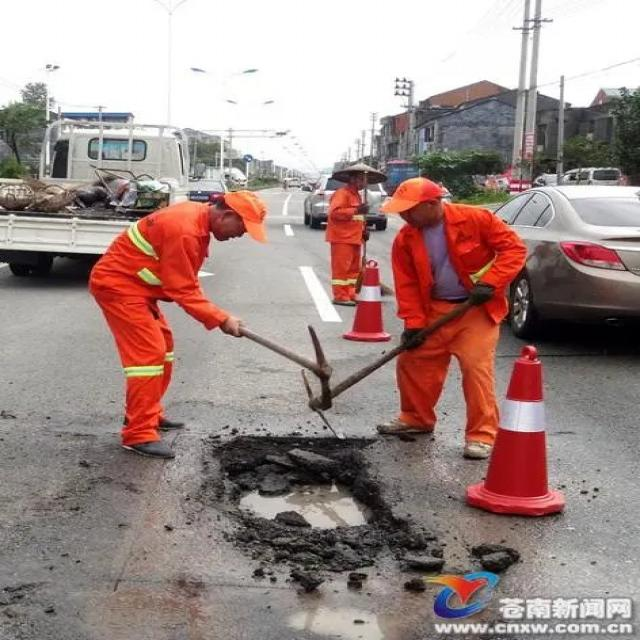Pothole: (194, 430, 420, 569)
